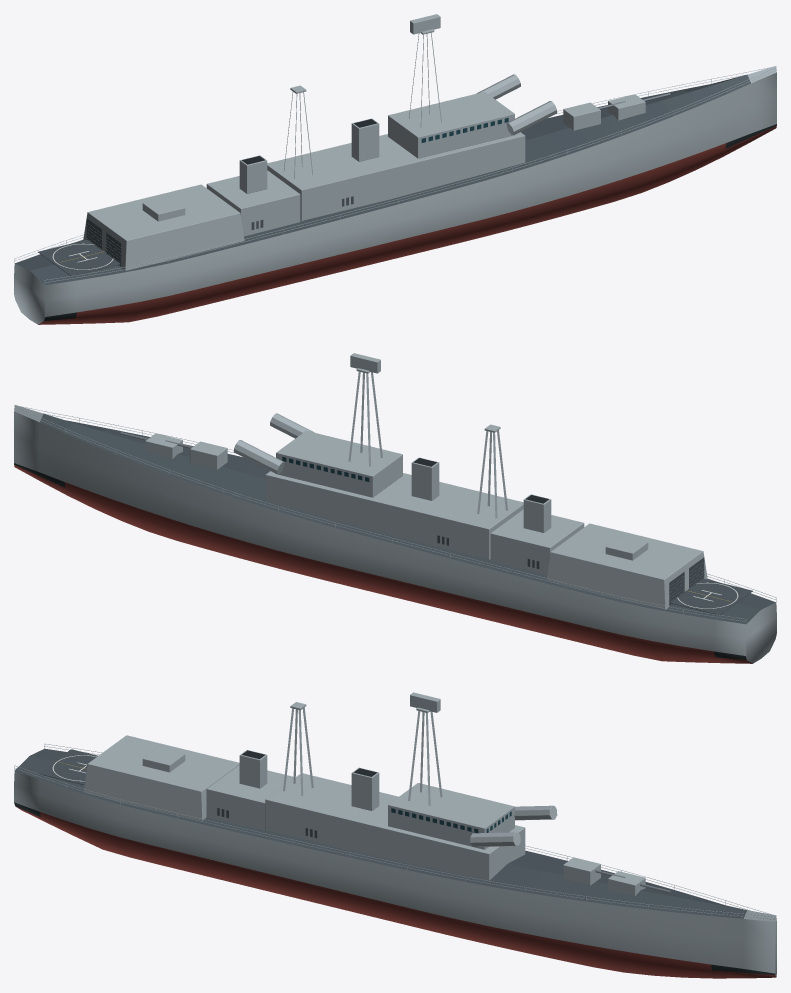
File: cw90_udaloy.glb
3 views of the same model, one above another, from view 1: azimuth 30°, elevation 25°; view 2: azimuth 150°, elevation 25°; view 3: azimuth 330°, elevation 25° (orthographic).
Visible parts, largest first — view 1: cw90_udaloy; view 2: cw90_udaloy; view 3: cw90_udaloy.
Part boxes in pixels (x1,y1,x2,y2): cw90_udaloy: (14, 14, 776, 324); cw90_udaloy: (14, 353, 776, 663); cw90_udaloy: (14, 692, 776, 978).
Bounding box in the file's own units: 10 × 2.84 × 1.17.
